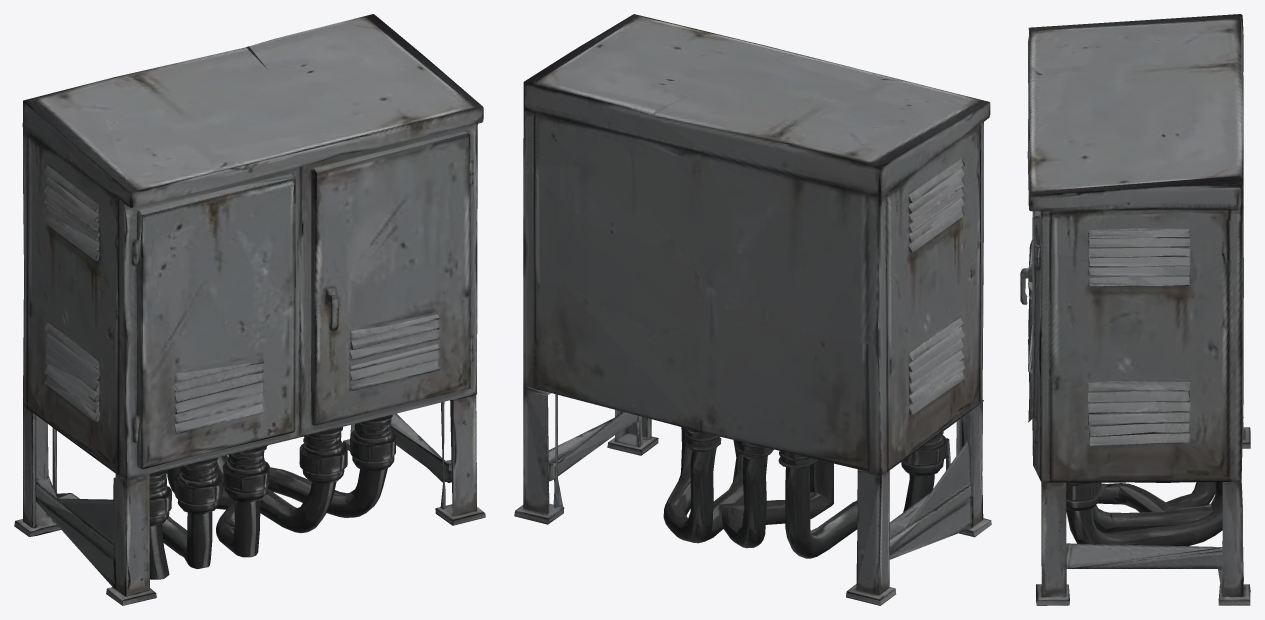
The model's file is control_kiosk.glb.
3 views of the same model, side by side, from view 1: azimuth 30°, elevation 25°; view 2: azimuth 150°, elevation 25°; view 3: azimuth 270°, elevation 25° (orthographic). The views are drawn at different scales.
Bounding box in the file's own units: 1.7 × 1.9 × 0.9423.
Materials: 1 (1 with a texture image).
